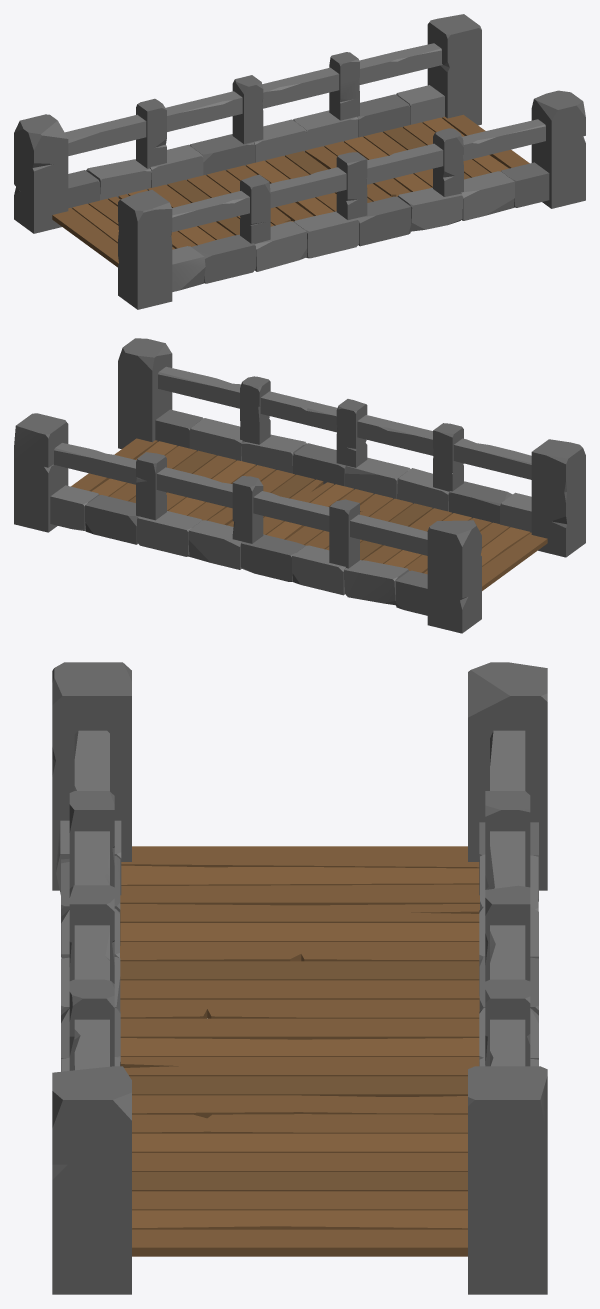
The model's file is Bridge_01.fbx.
3 views of the same model, one above another, from view 1: azimuth 30°, elevation 25°; view 2: azimuth 150°, elevation 25°; view 3: azimuth 270°, elevation 25° (orthographic). The views are drawn at different scales.
Visible parts, largest first — view 1: Bridge_01_LOD0; view 2: Bridge_01_LOD0; view 3: Bridge_01_LOD0.
Boxes of the visible parts, x1,y1,x2,y2 form: Bridge_01_LOD0: [14, 14, 585, 309]; Bridge_01_LOD0: [14, 338, 585, 633]; Bridge_01_LOD0: [52, 662, 547, 1294].
Size of what is drawn, in the model's own units: 6.5 by 1.35 by 3.11.
